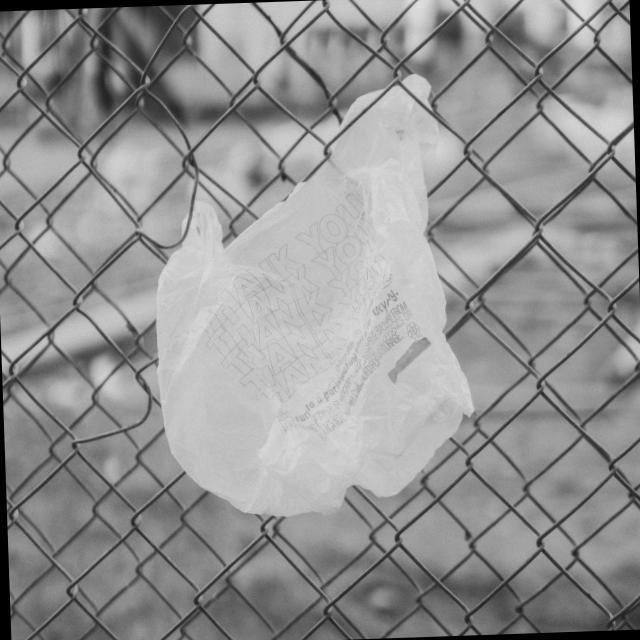Plastic_Bag: (143, 70, 480, 514)
